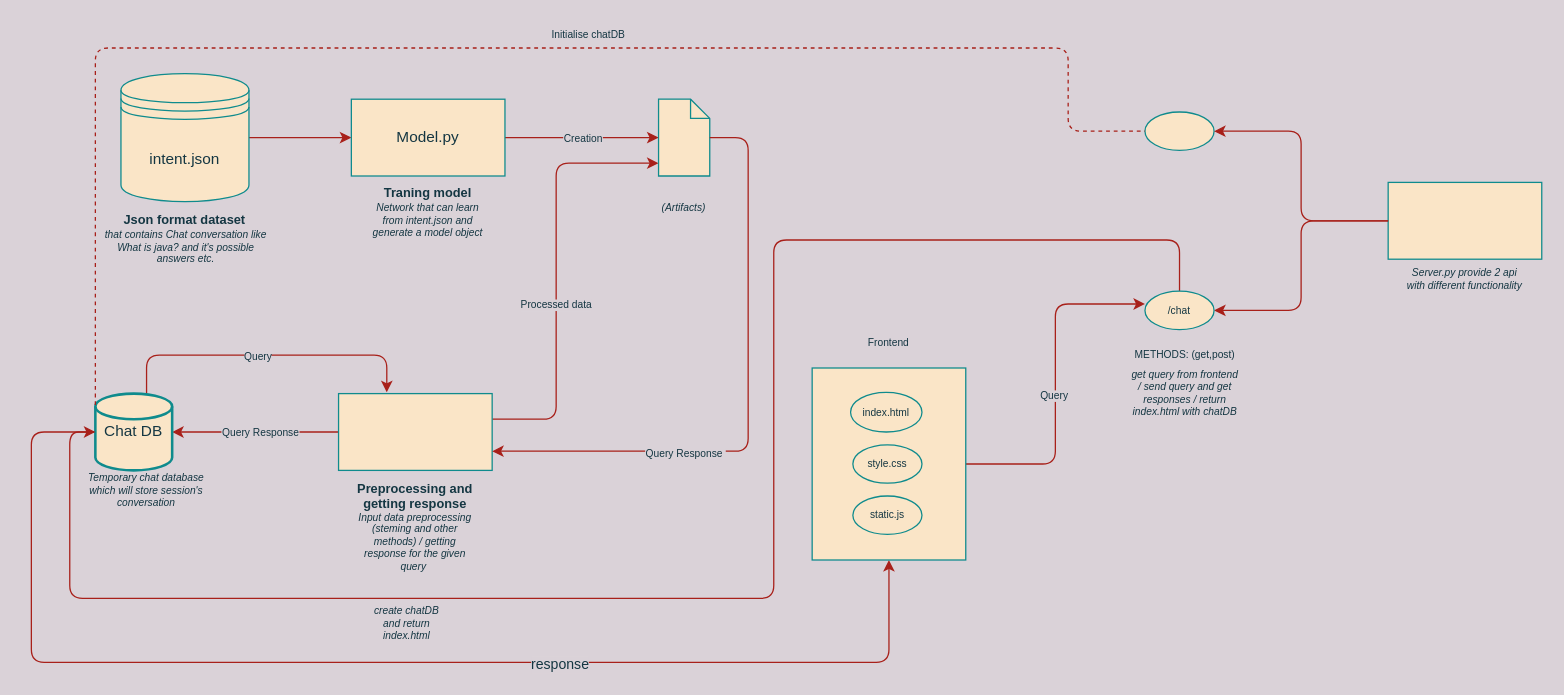
This 1564x695 diagram has some shape labels left out. The shapes that lost their labels are listed below. From the top down, each one's centre as x and y in pixels, then its label:
At point (683, 137): "Model".
At point (1179, 130): "/init".
At point (1464, 220): "Server.py".
At point (414, 431): "Main.py".
